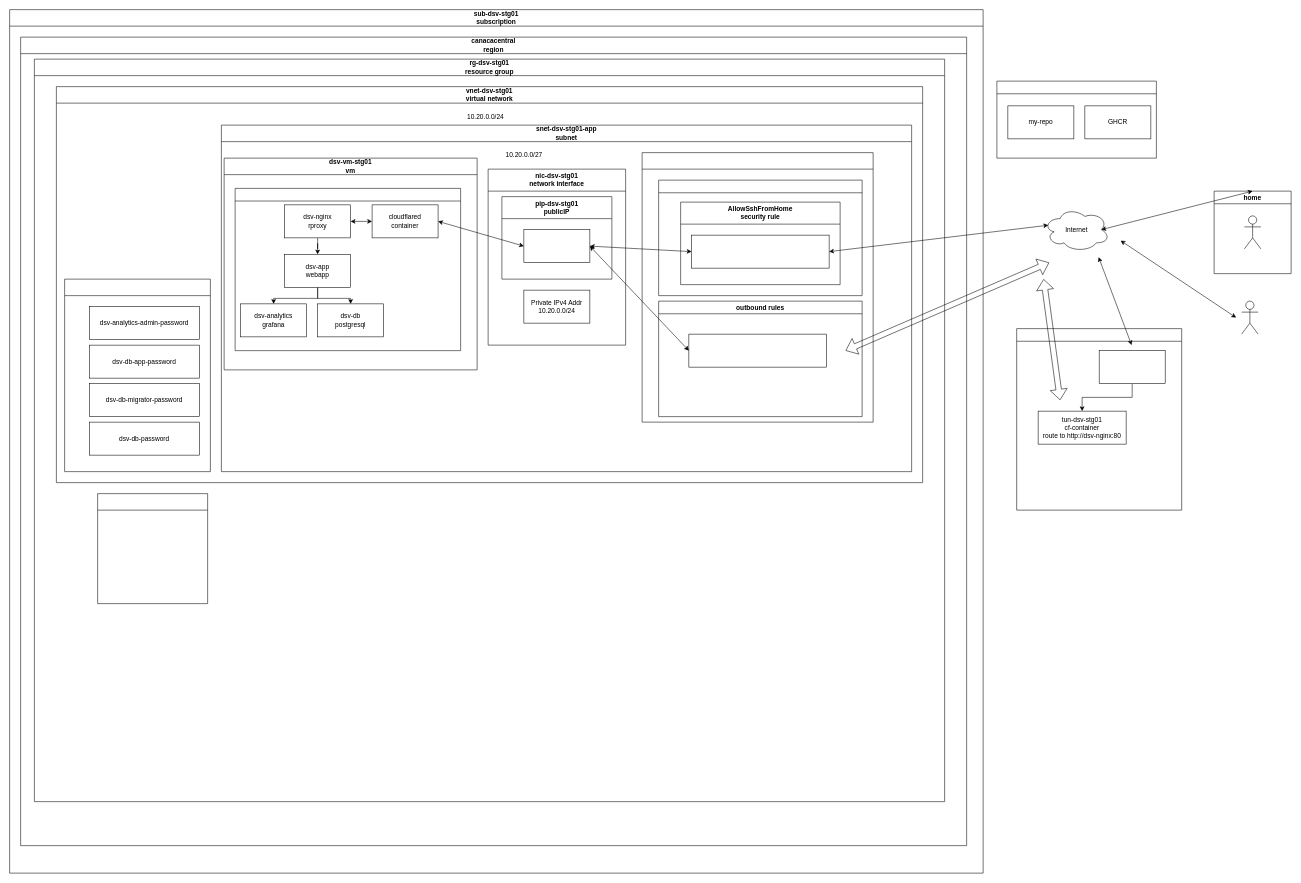
This 1301x883 diagram has some shape labels left out. The shapes that lost their labels are listed below. From the top down, each one's box as (x1, y1, x2, y2) in pixels, then its label:
(996, 81, 1156, 158): Github
(523, 229, 590, 263): AZ Public IPv4 addr
(658, 180, 862, 296): Inbound rules
(691, 235, 829, 268): ALLOW SRC: my_home_pub_IP:22 tcp DST: ANY
(1244, 215, 1261, 249): sysadmin
(235, 188, 461, 351): docker
(642, 152, 873, 422): nsg-dsv-stg01-app network security group
(1241, 301, 1258, 334): users
(688, 334, 826, 367): ALLOW ALLOW INTERNET OUTBOUND 65001
(1099, 350, 1165, 384): DNS
(64, 279, 210, 472): kv-dsv-stg01 key vault
(1016, 328, 1182, 510): Cloudflare
(97, 493, 208, 604): id-dsv-stg01-vm managed identity
